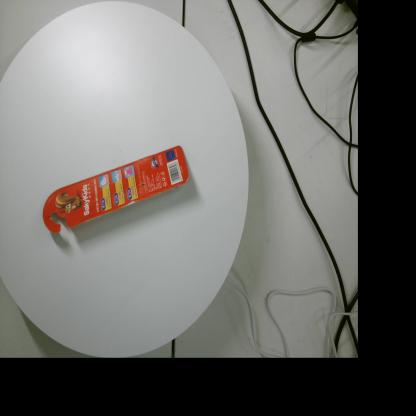Personal Hygiene: (42, 146, 190, 233)
